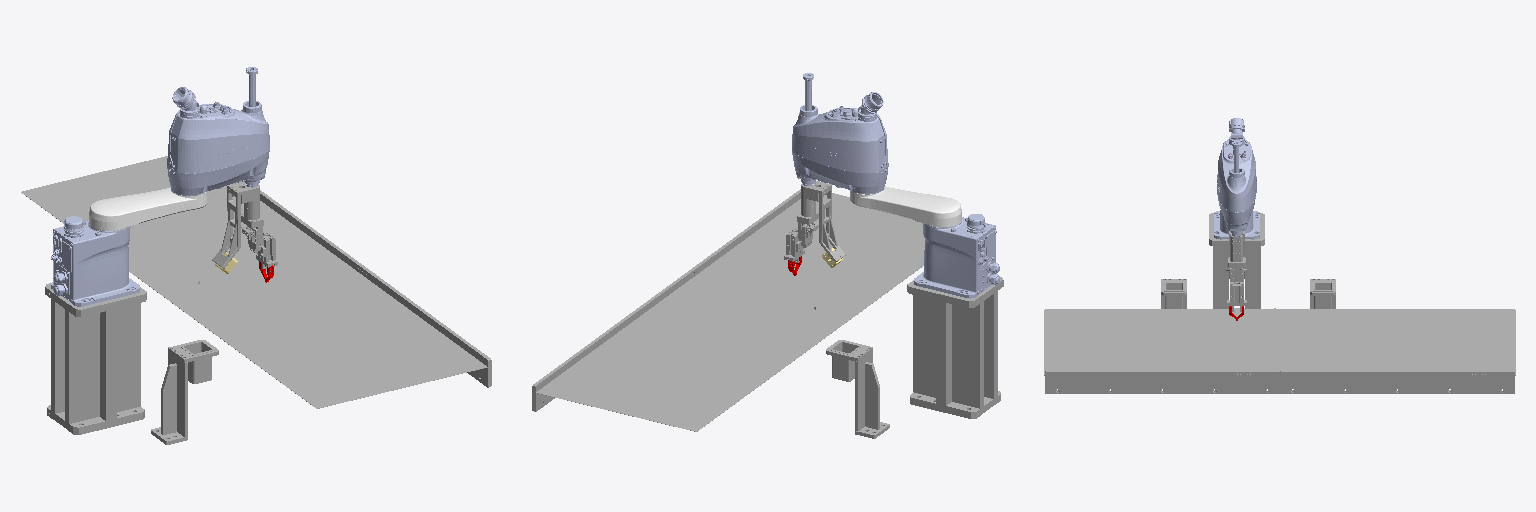
The robot description file, URDF, robot "ino_ir_400_4":
<?xml version="1.0" encoding="utf-8"?>
<!-- This URDF was automatically created by SolidWorks to URDF Exporter! Originally created by [author] ([email redacted]) 
     Commit Version: 1.6.0-4-g7f85cfe  Build Version: 1.6.7995.38578
     For more information, please see http://wiki.ros.org/sw_urdf_exporter -->
<robot name="ino_ir_400_4">
  <link name="baselink">
    <inertial>
      <origin xyz="-0.0475269893399034 -9.18909934732606E-05 -0.063117944265121" rpy="0 0 0" />
      <mass
        value="2.90339245640769" />
      <inertia
        ixx="0.00973437418999566"
        ixy="-2.78454910615506E-05"
        ixz="0.000205437268202328"
        iyy="0.0147351913262812"
        iyz="-1.24736485148572E-05"
        izz="0.00973951348382178" />
    </inertial>
    <visual>
      <origin xyz="0 0 0" rpy="0 0 0" />
      <geometry>
        <mesh
          filename="package://ino_ir_400_4/meshes/baselink.dae" />
      </geometry>
      <material
        name="">
        <color
          rgba="0.792156862745098 0.819607843137255 0.933333333333333 1" />
      </material>
    </visual>
    <collision>
      <origin xyz="0 0 0" rpy="0 0 0" />
      <geometry>
        <mesh
          filename="package://ino_ir_400_4/meshes/baselink.obj" />
      </geometry>
    </collision>
  </link>
  <link name="link1">
    <inertial>
      <origin xyz="0.100762422197871 -4.15879641913283E-06 0.0430096798259152" rpy="0 0 0" />
      <mass
        value="1.04914101414795" />
      <inertia
        ixx="0.000790470115287701"
        ixy="4.96914433097863E-08"
        ixz="4.6837895291801E-05"
        iyy="0.00844429805643474"
        iyz="-7.48336244503902E-09"
        izz="0.0089607919678015" />
    </inertial>
    <visual>
      <origin
        xyz="0 0 0"
        rpy="0 0 0" />
      <geometry>
        <mesh
          filename="package://ino_ir_400_4/meshes/link1.dae" />
      </geometry>
      <material
        name="">
        <color
          rgba="1 1 1 1" />
      </material>
    </visual>
    <collision>
      <origin xyz="0 0 0"  rpy="0 0 0" />
      <geometry>
        <mesh
          filename="package://ino_ir_400_4/meshes/link1.obj" />
      </geometry>
    </collision>
  </link>
  <joint name="joint1" type="continuous">
    <origin xyz="0 0 0" rpy="0 0 0" />
    <parent
      link="baselink" />
    <child
      link="link1" />
    <axis
      xyz="0 0 1" />
    <limit lower="-1.6" upper="1.6" effort="40" velocity="6.2832" />
  </joint>
  <link name="link2">
    <inertial>
      <origin xyz="0.0692345179040184 -1.36553873458821E-06 0.0948639235249834" rpy="0 0 0" />
      <mass
        value="4.37140972916236" />
      <inertia
        ixx="0.0164443431821456"
        ixy="-4.4524412352778E-07"
        ixz="0.00180305389582797"
        iyy="0.0316170708085011"
        iyz="-1.10803964728059E-08"
        izz="0.0225919113178935" />
    </inertial>
    <visual>
      <origin xyz="0 0 0" rpy="0 0 0" />
      <geometry>
        <mesh
          filename="package://ino_ir_400_4/meshes/link2.dae" />
      </geometry>
      <material
        name="">
        <color
          rgba="0.792156862745098 0.819607843137255 0.933333333333333 1" />
      </material>
    </visual>
    <collision>
      <origin xyz="0 0 0" rpy="0 0 0" />
      <geometry>
        <mesh
          filename="package://ino_ir_400_4/meshes/link2.obj" />
      </geometry>
    </collision>
  </link>
  <joint name="joint2" type="continuous">
    <origin xyz="0.225 0 0.0614" rpy="0 0 0" />
    <parent
      link="link1" />
    <child
      link="link2" />
    <axis
      xyz="0 0 1" />
    <limit lower="-2.4609" upper="2.4609" effort="30" velocity="6.2832" />
  </joint>
  <link name="link3">
    <inertial>
      <origin
        xyz="8.08936534032467E-05 -2.50765281707626E-05 0.2047079329259"
        rpy="0 0 0" />
      <mass
        value="0.0353721198227354" />
      <inertia
        ixx="0.000307906325822679"
        ixy="-2.25976534063343E-09"
        ixz="-3.75701332087269E-07"
        iyy="0.00030788513534791"
        iyz="1.16283323361547E-07"
        izz="2.01279425582973E-06" />
    </inertial>
    <visual>
      <origin
        xyz="0 0 0"
        rpy="0 0 0" />
      <geometry>
        <mesh
          filename="package://ino_ir_400_4/meshes/link3.dae" />
      </geometry>
      <material
        name="">
        <color
          rgba="0.792156862745098 0.819607843137255 0.933333333333333 1" />
      </material>
    </visual>
    <collision>
      <origin
        xyz="0 0 0"
        rpy="0 0 0" />
      <geometry>
        <mesh
          filename="package://ino_ir_400_4/meshes/link3.obj" />
      </geometry>
    </collision>
  </link>
  <joint name="joint3" type="prismatic">
    <origin
      xyz="0.175 0 -0.0614"
      rpy="0 0 0" />
    <parent
      link="link2" />
    <child
      link="link3" />
    <axis
      xyz="0 0 1" />
    <limit lower="-0.04" upper="0" effort="20" velocity="1.3" />
  </joint>
  <link name="link4">
    <inertial>
      <origin
        xyz="0.000269193867090345 -3.65915253696762E-05 0.0275835344641969"
        rpy="0 0 0" />
      <mass
        value="0.00843880884560637" />
      <inertia
        ixx="1.48872682222414E-06"
        ixy="-2.6264753474242E-09"
        ixz="-2.506635428181E-08"
        iyy="1.45655449640398E-06"
        iyz="2.29160751505996E-09"
        izz="8.05120659155988E-07" />
    </inertial>
    <visual>
      <origin
        xyz="0 0 0"
        rpy="0 0 0" />
      <geometry>
        <mesh
          filename="package://ino_ir_400_4/meshes/link4.dae" />
      </geometry>
      <material
        name="">
        <color
          rgba="0.792156862745098 0.819607843137255 0.933333333333333 1" />
      </material>
    </visual>
    <collision>
      <origin
        xyz="0 0 0"
        rpy="0 0 0" />
      <geometry>
        <mesh
          filename="package://ino_ir_400_4/meshes/link4.obj" />
      </geometry>
    </collision>
  </link>
  <joint name="joint4" type="revolute">
    <origin xyz="0 0 0" rpy="0 0 0" />
    <parent link="link3" />
    <child link="link4" />
    <axis xyz="0 0 1" />
    <limit lower="-1.1416" upper="1.1416" effort="10" velocity="45.379" />
  </joint>
  <link name="link5">
    <inertial>
      <origin
        xyz="8.08936534032467E-05 -2.50765281707626E-05 0.2047079329259"
        rpy="0 0 0" />
      <mass
        value="0.0353721198227354" />
      <inertia
        ixx="0.000307906325822679"
        ixy="-2.25976534063343E-09"
        ixz="-3.75701332087269E-07"
        iyy="0.00030788513534791"
        iyz="1.16283323361547E-07"
        izz="2.01279425582973E-06" />
    </inertial>
    <visual>
      <origin
        xyz="0 0 0"
        rpy="0 0 0" />
      <geometry>
        <mesh
          filename="package://ino_ir_400_4/meshes/mylink.dae" />
      </geometry>
      <material
        name="">
        <color
          rgba="0.792156862745098 0.819607843137255 0.933333333333333 1" />
      </material>
    </visual>
    <collision>
      <origin
        xyz="0 0 0"
        rpy="0 0 0" />
      <geometry>
        <mesh
          filename="package://ino_ir_400_4/meshes/mylink.obj" />
      </geometry>
    </collision>
  </link>
  <joint name="joint5" type="revolute">
    <origin
      xyz="0 0 0"
      rpy="0 0 0" />
    <parent
      link="link4" />
    <child
      link="link5" />
    <axis
      xyz="0 0 1" />
    <limit lower="0" upper="0" effort="1" velocity="1" />
  </joint>
  <link name="link6">
    <inertial>
      <origin
        xyz="0.000269193867090345 -3.65915253696762E-05 0.0275835344641969"
        rpy="0 0 0" />
      <mass
        value="0.00843880884560637" />
      <inertia
        ixx="1.48872682222414E-06"
        ixy="-2.6264753474242E-09"
        ixz="-2.506635428181E-08"
        iyy="1.45655449640398E-06"
        iyz="2.29160751505996E-09"
        izz="8.05120659155988E-07" />
    </inertial>
    <visual>
      <origin
        xyz="0 0 0"
        rpy="0 0 0" />
      <geometry>
        <mesh
          filename="package://ino_ir_400_4/meshes/mylink.dae" />
      </geometry>
      <material
        name="">
        <color
          rgba="0.792156862745098 0.819607843137255 0.933333333333333 1" />
      </material>
    </visual>
    <collision>
      <origin
        xyz="0 0 0"
        rpy="0 0 0" />
      <geometry>
        <mesh
          filename="package://ino_ir_400_4/meshes/mylink.obj" />
      </geometry>
    </collision>
  </link>
  <joint name="joint6" type="revolute">
    <origin xyz="0 0 0" rpy="0 0 0" />
    <parent link="link5" />
    <child link="link6" />
    <axis xyz="0 0 1" />
    <limit lower="0" upper="0" effort="1" velocity="1" />
  </joint>

  <joint name="hand_joint" type="fixed">
    <origin rpy="0 0 0" xyz="0 0 0.03"/>
    <parent link="link6"/>
    <child link="hand_base_link"/>
  </joint>
  <link name="hand_base_link">
    <inertial>
      <origin xyz="0.017069 0.097417 -0.14989" rpy="0 0 0" />
      <mass
        value="0.36645" />
      <inertia
        ixx="0.00042998"
        ixy="-5.8464E-08"
        ixz="-3.871E-07"
        iyy="0.00045575"
        iyz="4.0823E-05"
        izz="9.9563E-05" />
    </inertial>
    <visual>
      <origin xyz="0 0 0" rpy="0 0 0" />
      <geometry>
        <mesh filename="package://ino_ir_400_4/meshes/hand_base_link.dae" />
      </geometry>
      <material name="">
        <color rgba="0.75294 0.75294 0.75294 1" />
      </material>
    </visual>
    <collision>
      <origin xyz="0 0 0" rpy="0 0 0" />
      <geometry>
        <mesh filename="package://ino_ir_400_4/meshes/hand_base_link.obj" />
      </geometry>
    </collision>
  </link>
  <link name="left_finger">
    <inertial>
      <origin xyz="-8.6431E-09 -0.00083316 -0.018002" rpy="0 0 0" />
      <mass value="0.003611" />
      <inertia ixx="6.6075E-07" ixy="-7.8915E-14" ixz="-3.472E-13"
        iyy="6.0227E-07" iyz="-1.8484E-07" izz="1.735E-07" />
    </inertial>
    <visual>
      <origin xyz="0 0 0" rpy="0 0 0" />
      <geometry>
        <mesh filename="package://ino_ir_400_4/meshes/left_finger.dae" />
      </geometry>
      <material
        name="">
        <color rgba="1 0 0 1" />
      </material>
    </visual>
    <collision>
      <origin xyz="0 0 0" rpy="0 0 0" />
      <geometry>
        <mesh
          filename="package://ino_ir_400_4/meshes/left_finger.obj" />
      </geometry>
    </collision>
  </link>
  <joint name="left_finger_joint" type="prismatic">
    <origin xyz="0.0408 0.0166 -0.2236" rpy="0 0 0" />
    <parent link="hand_base_link" />
    <child link="left_finger" />
    <axis  xyz="0 1 0" />
    <dynamics damping="10.0"/>
    <limit lower="0" upper="0.01" effort="1" velocity="1" />
  </joint>
  <link name="left_tip">
    <collision>
      <geometry>
        <box size="0.013 0.004 0.013"/>
      </geometry>
    </collision>
  </link>
  <joint name="leftfinger_tip_joint" type="fixed">
    <origin xyz="0 -0.0166 -0.042513" rpy="0 0 0" />
    <parent link="left_finger" />
    <child link="left_tip" />
    <axis xyz="0 0 0" />
  </joint>
  <link name="right_finger">
    <inertial>
      <origin
        xyz="8.6276E-09 0.00083443 -0.018004"
        rpy="0 0 0" />
      <mass
        value="0.0036113" />
      <inertia
        ixx="6.6105E-07"
        ixy="-7.8497E-14"
        ixz="3.4673E-13"
        iyy="6.0249E-07"
        iyz="1.8496E-07"
        izz="1.7357E-07" />
    </inertial>
    <visual>
      <origin
        xyz="0 0 0"
        rpy="0 0 0" />
      <geometry>
        <mesh
          filename="package://ino_ir_400_4/meshes/right_finger.dae" />
      </geometry>
      <material
        name="">
        <color
          rgba="1 0 0 1" />
      </material>
    </visual>
    <collision>
      <origin
        xyz="0 0 0"
        rpy="0 0 0" />
      <geometry>
        <mesh
          filename="package://ino_ir_400_4/meshes/right_finger.obj" />
      </geometry>
    </collision>
  </link>
  <joint name="right_finger_joint" type="prismatic">
    <origin xyz="0.0408 -0.0166 -0.2236" rpy="0 0 0" />
    <parent
      link="hand_base_link" />
    <child
      link="right_finger" />
    <axis xyz="0 -1 0" />
    <dynamics damping="10.0"/>
    <limit lower="0" upper="0.01" effort="1" velocity="1" />
	  <mimic joint="left_finger_joint"/>
  </joint>
  <link name="right_tip">
    <collision>
      <geometry>
        <box size="0.013 0.004 0.013"/>
      </geometry>
    </collision>
  </link>
  <joint name="rightfinger_tip_joint" type="fixed">
    <origin xyz="0 0.016 -0.042513" rpy="0 0 0" />
    <parent link="right_finger" />
    <child link="right_tip" />
    <axis xyz="0 0 0" />
  </joint>
  <joint name="grip_vis_joint" type="fixed">
    <parent link="hand_base_link"/>
    <child link="grip_site"/>
    <origin rpy="0 0 0" xyz="0.0408 0 -0.2661"/>
  </joint>
  <link name="grip_site">
    <visual>
      <geometry>
        <sphere radius="0.001"/>
      </geometry>
      <material name="Vis"/>
    </visual>
  </link>
  <link name="cam">
    <inertial>
      <origin
        xyz="-8.5017E-05 -7.8981E-05 -0.011294"
        rpy="0 0 0" />
      <mass
        value="1.0768" />
      <inertia
        ixx="0.00019743"
        ixy="1.1236E-08"
        ixz="-2.9652E-07"
        iyy="0.00019719"
        iyz="-4.1694E-07"
        izz="0.00030137" />
    </inertial>
    <visual>
      <origin
        xyz="0 0 0"
        rpy="0 0 0" />
      <geometry>
        <mesh
          filename="package://ino_ir_400_4/meshes/cam.dae" />
      </geometry>
      <material
        name="">
        <color
          rgba="1 0.94118 0.67843 1" />
      </material>
    </visual>
    <collision>
      <origin
        xyz="0 0 0"
        rpy="0 0 0" />
      <geometry>
        <mesh
          filename="package://ino_ir_400_4/meshes/cam.obj" />
      </geometry>
    </collision>
  </link>
  <joint name="cam_joint" type="fixed">
    <origin xyz="-0.0656439049555634 0 -0.198939887726928" rpy="2.3562 0 1.5707963267949" />
    <parent link="hand_base_link" />
    <child link="cam" />
    <axis xyz="0 0 0" />
  </joint>
  <link name="cam_point">
    <visual>
      <geometry>
        <sphere radius="0.001"/>
      </geometry>
      <material name="Vis"/>
    </visual>
  </link>
  <joint name="jointcam" type="fixed">
    <origin xyz="0 0 0" rpy="0 0 0" />
    <parent link="cam" />
    <child link="cam_point" />
    <axis xyz="0 0 0" />
  </joint>

  <link name="env">
    <inertial>
      <origin
        xyz="0.257938872246366 0.202440227265669 -0.182038064498453"
        rpy="0 0 0" />
      <mass
        value="70.3565754713384" />
      <inertia
        ixx="5.29398784227613"
        ixy="-0.1290981341927"
        ixz="-0.0808665282809915"
        iyy="5.19440647934511"
        iyz="0.0041547269468774"
        izz="9.78932300844001" />
    </inertial>
    <visual>
      <origin xyz="0 0 0" rpy="0 0 0" />
      <geometry>
        <mesh
          filename="package://ino_ir_400_4/meshes/env.dae" />
      </geometry>
      <material
        name="">
        <color
          rgba="0.752941176470588 0.752941176470588 0.752941176470588 1" />
      </material>
    </visual>
    <collision>
      <origin xyz="0 0 0" rpy="0 0 0" />
      <geometry>
        <mesh
          filename="package://ino_ir_400_4/meshes/env.obj" />
      </geometry>
    </collision>
  </link>
  <link name="platform">
    <inertial>
      <origin
        xyz="0.0107383685001534 -0.0610234383836579 -0.0156891844474306"
        rpy="0 0 0" />
      <mass
        value="0.380074879750474" />
      <inertia
        ixx="0.000715943222370812"
        ixy="1.24916082448569E-06"
        ixz="1.13762873105386E-06"
        iyy="0.000395971821601958"
        iyz="-2.02787883823606E-06"
        izz="0.00110044119676599" />
    </inertial>
    <visual>
      <origin xyz="0 0 0" rpy="0 0 0" />
      <geometry>
        <mesh
          filename="package://ino_ir_400_4/meshes/platform.dae" />
      </geometry>
      <material
        name="">
        <color
          rgba="0.752941176470588 0.752941176470588 0.752941176470588 1" />
      </material>
    </visual>
    <collision>
      <origin xyz="0 0 0" rpy="0 0 0" />
      <geometry>
        <mesh
          filename="package://ino_ir_400_4/meshes/platform.obj" />
      </geometry>
    </collision>
  </link>
  <joint name="env_platform" type="fixed">
    <origin
      xyz="0.340987103481122 0.112814884975291 -0.115"
      rpy="0 0 0" />
    <parent
      link="env" />
    <child
      link="platform" />
    <axis
      xyz="0 0 0" />
  </joint>
  <link name="stickers">
    <inertial>
      <origin
        xyz="-0.00691469376494203 0.00230476322235823 0.00114096247538141"
        rpy="0 0 0" />
      <mass
        value="1.47783924030024E-05" />
      <inertia
        ixx="5.34970191893634E-11"
        ixy="1.71067678641814E-11"
        ixz="-5.50258510119808E-22"
        iyy="2.36691871782851E-10"
        iyz="2.48491813078755E-22"
        izz="2.52128898389789E-10" />
    </inertial>
    <visual>
      <origin xyz="0 0 0" rpy="0 0 0" />
      <geometry>
        <mesh
          filename="package://ino_ir_400_4/meshes/stickers.dae" />
      </geometry>
      <material
        name="">
        <color
          rgba="0.752941176470588 0.752941176470588 0.752941176470588 1" />
      </material>
    </visual>
    <collision>
      <origin xyz="0 0 0" rpy="0 0 0" />
      <geometry>
        <mesh
          filename="package://ino_ir_400_4/meshes/stickers.obj" />
      </geometry>
    </collision>
  </link>
  <joint name="platform_stickers" type="fixed">
    <origin xyz="0 0 0" rpy="0 0 0" />
    <parent link="platform" />
    <child link="stickers" />
    <axis xyz="0 0 0" />
  </joint>
  <joint name="base_link-base_fixed_joint" type="fixed">
    <origin rpy="0 0 0" xyz="0.023 0 0.1468"/>
    <parent link="env"/>
    <child link="baselink"/>
  </joint>
</robot>

--- What the picture shows (computed from the rendered views, not written in the file) ---
3 views of the same robot in one strip: view 1: azimuth 30°, elevation 25°; view 2: azimuth 150°, elevation 25°; view 3: azimuth 270°, elevation 25° (orthographic).
Robot: ino_ir_400_4 — 18 links, 17 joints (3 revolute, 2 continuous, 3 prismatic, 9 fixed); root link env; default pose: all joints at 0.
Visible links, largest first — view 1: env, link2, baselink, link1, hand_base_link; view 2: env, link2, baselink, link1, hand_base_link; view 3: env, link2, hand_base_link, baselink.
Boxes of the visible links, bbox=[...] form: env: bbox=[21, 156, 491, 444]; link2: bbox=[167, 87, 269, 195]; baselink: bbox=[51, 216, 139, 306]; link1: bbox=[89, 187, 208, 230]; hand_base_link: bbox=[212, 181, 277, 272]; env: bbox=[532, 189, 1003, 438]; link2: bbox=[792, 92, 888, 194]; baselink: bbox=[914, 214, 999, 298]; link1: bbox=[850, 186, 961, 227]; hand_base_link: bbox=[784, 181, 845, 265]; env: bbox=[1044, 213, 1515, 393]; link2: bbox=[1217, 118, 1256, 234]; hand_base_link: bbox=[1226, 231, 1246, 311]; baselink: bbox=[1214, 210, 1259, 239].
Size in the robot's own frame: 0.892 by 1.44 by 0.8268 metres.
Meshes: 13 distinct files referenced, 13 mesh visuals loaded (12 Collada DAE); not drawn: 1 (reference not matched to a file when rendering).